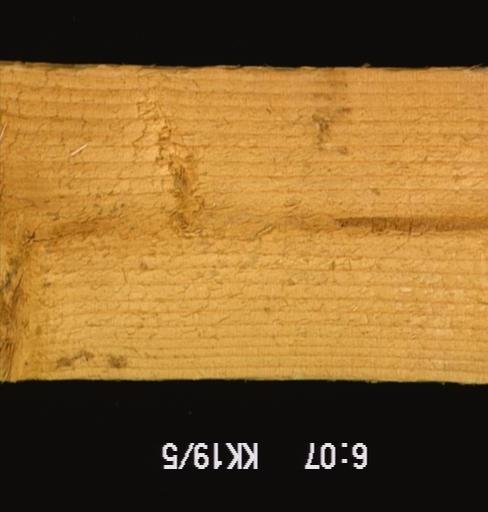small_knot: (164, 204, 205, 242)
